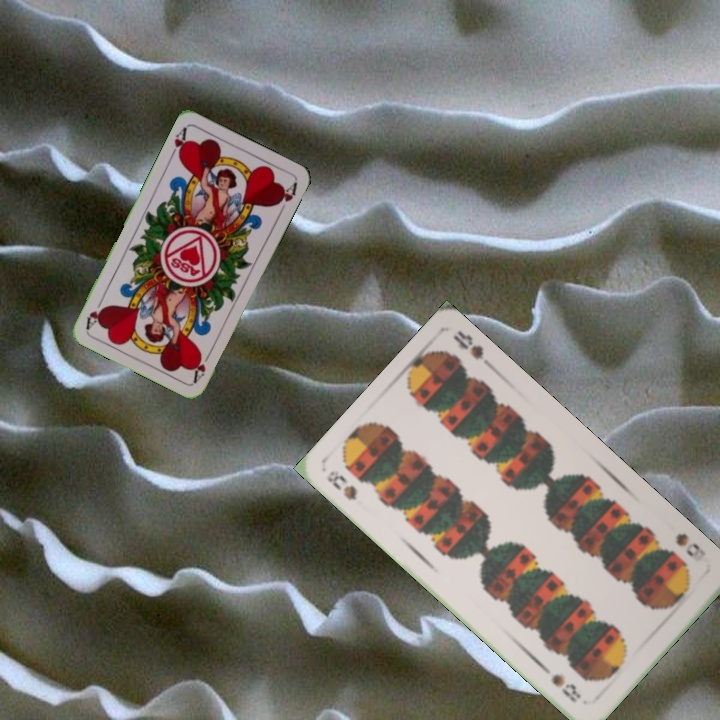HA: (188, 347, 214, 385), (166, 123, 191, 161)
S8: (322, 466, 360, 503), (671, 528, 703, 560)
